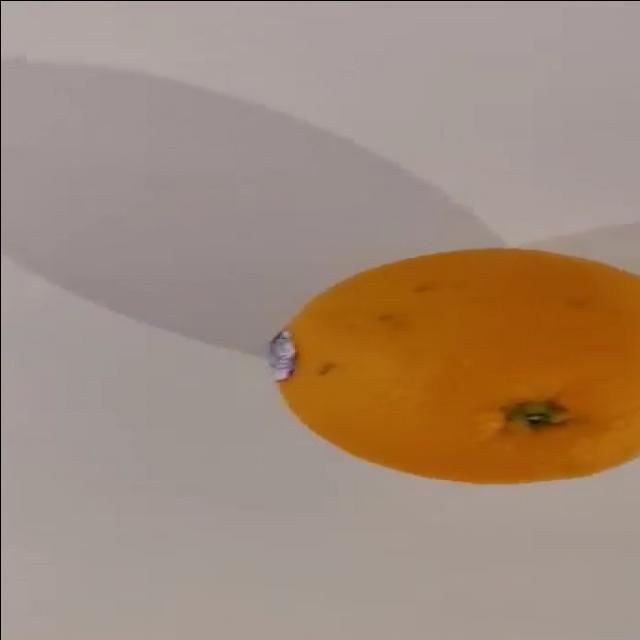Orange: (268, 245, 639, 485)
